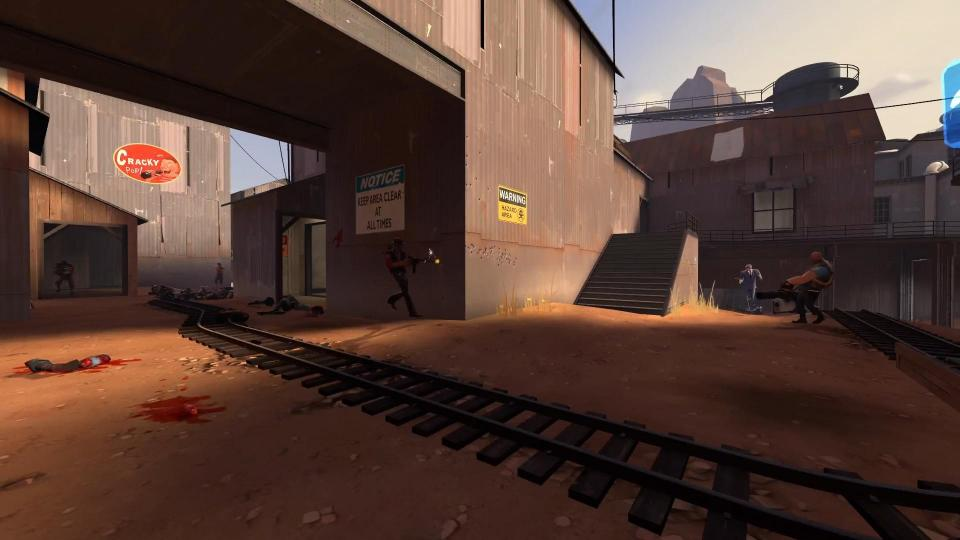Enemy: (756, 247, 839, 332), (376, 235, 446, 324), (731, 262, 766, 319), (53, 258, 78, 298), (210, 261, 227, 291)
